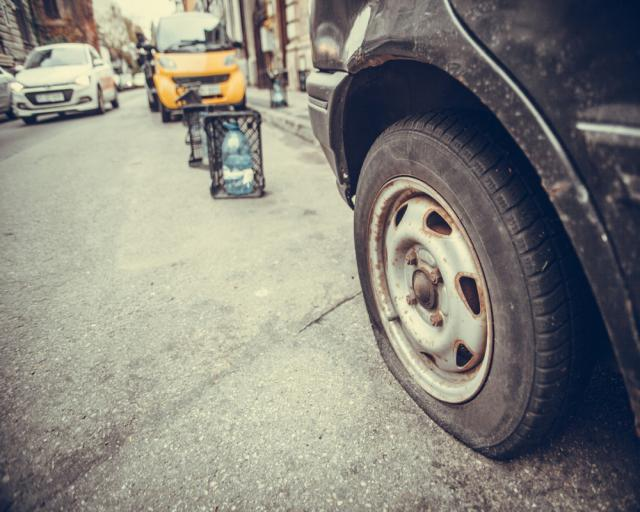tire flat: (355, 107, 577, 463)
